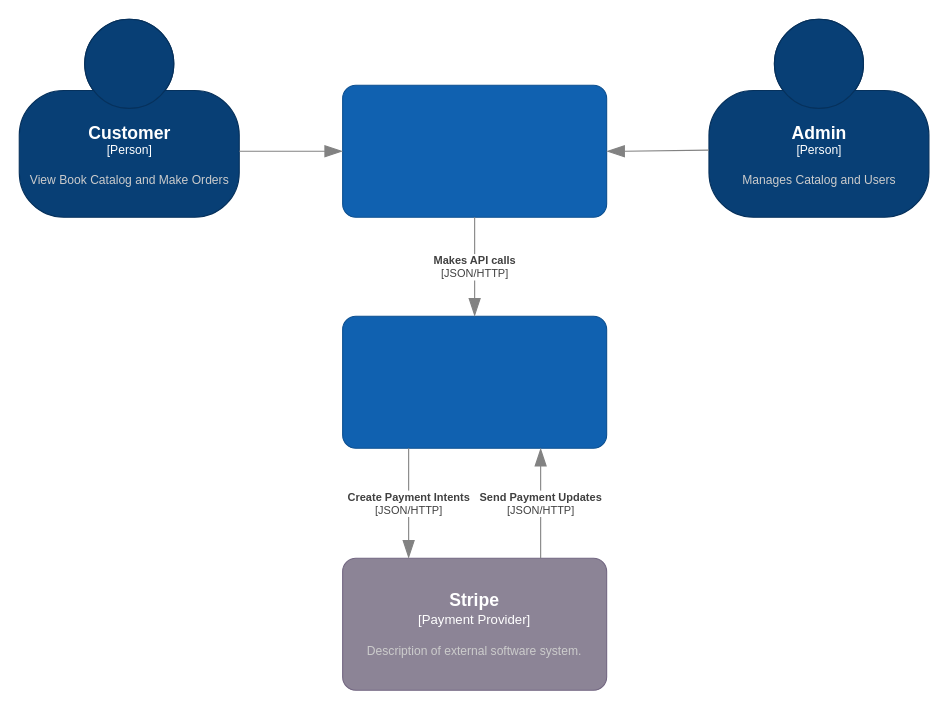
This 948x710 diagram has some shape labels left out. Each missing label, with the box of its shape:
Backend Application [Software System] Go Backend Application: (342, 315, 607, 448)
Fronted Web App [Software System] User-Facing Application: (342, 84, 607, 217)
